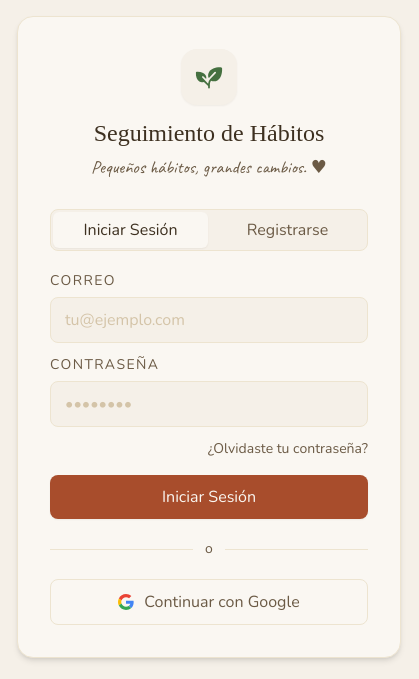
it: Login › switches to sign-up mode when the Registrarse tab is clicked
Click the button "Registrarse" at (288, 230), box x1=210 y1=212 x2=365 y2=248
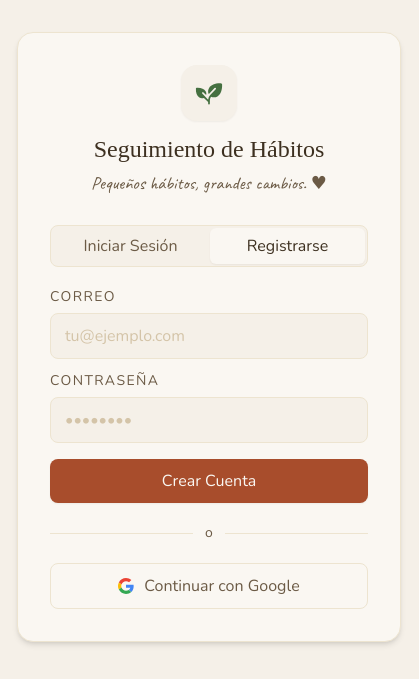
Expected: the submit button reads "Crear Cuenta", x1=50 y1=459 x2=368 y2=503
